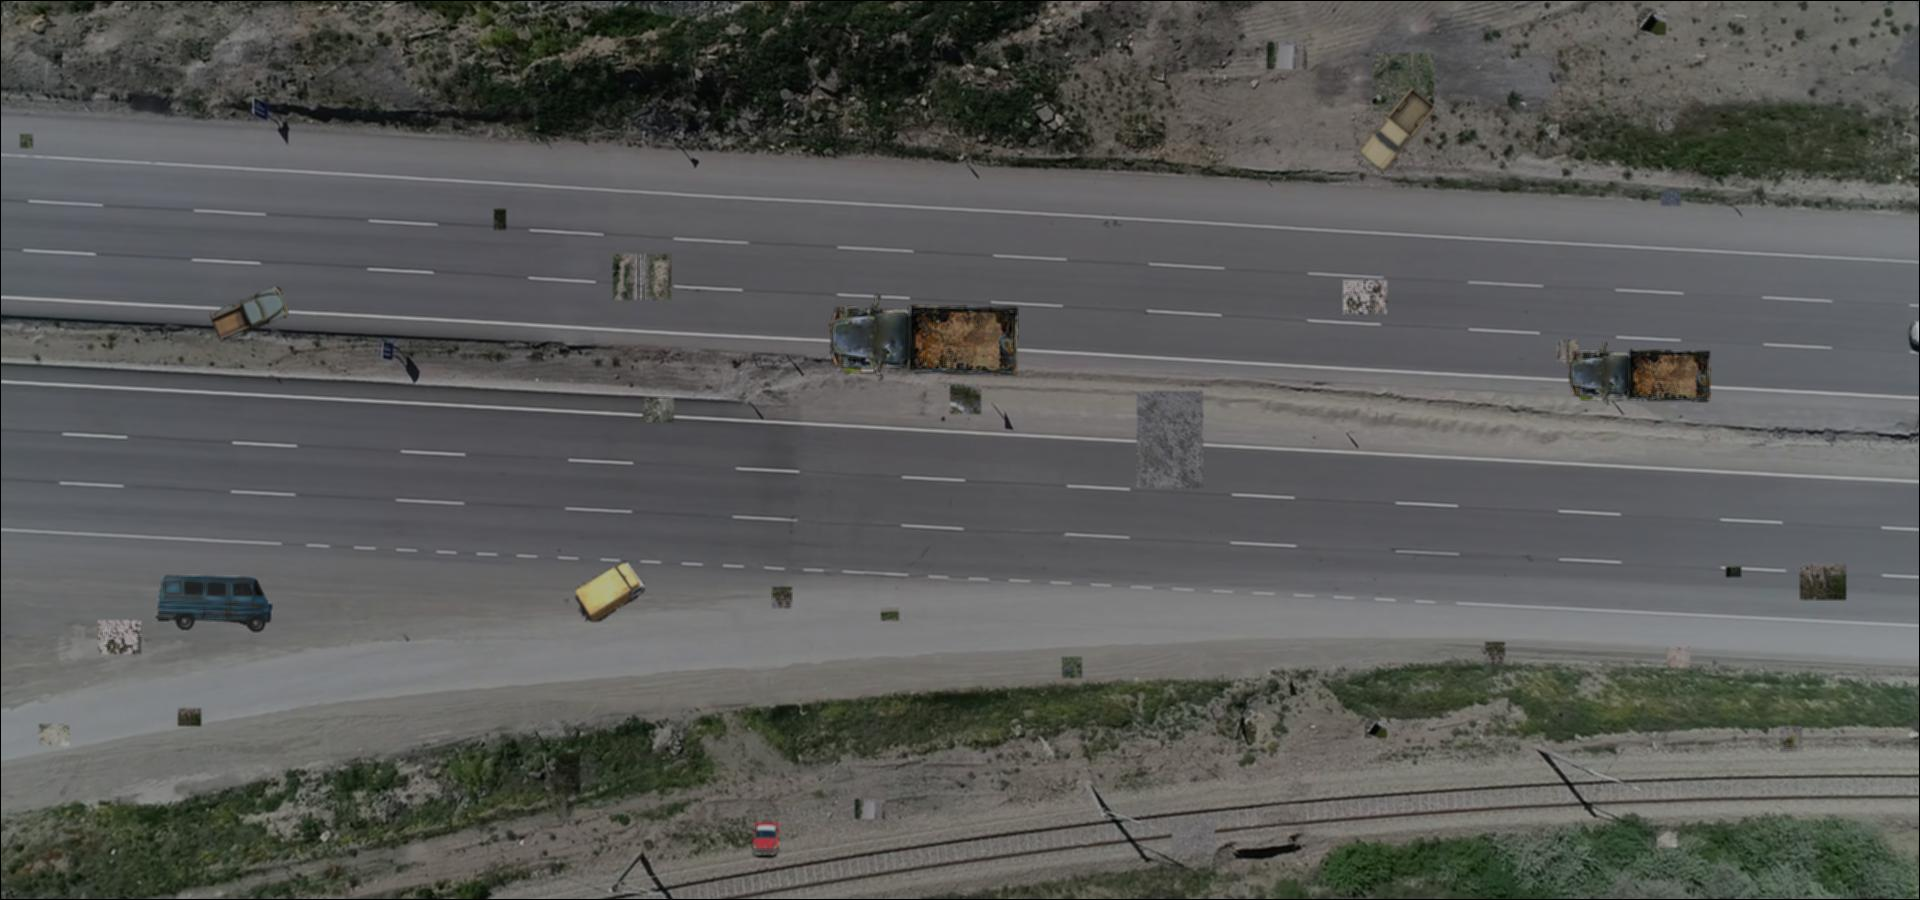arac: (827, 291, 1022, 387), (1567, 339, 1714, 411), (1354, 88, 1440, 174), (156, 574, 273, 634), (211, 283, 291, 340), (576, 557, 647, 622), (752, 820, 781, 860)
